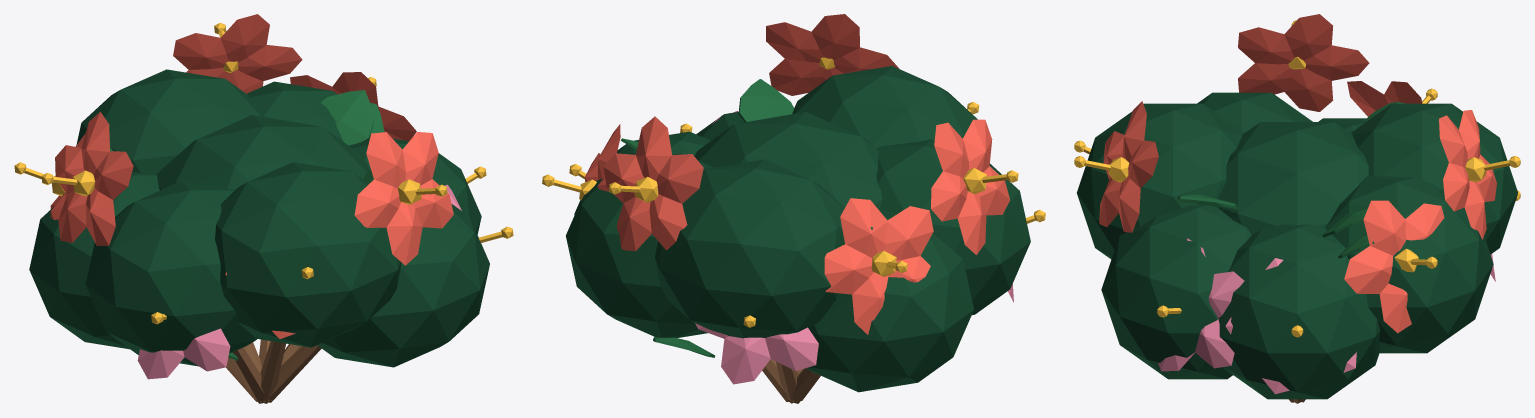
The model's file is bush-hibiscus.glb.
The picture shows the model from 3 angles, left to right: view 1: azimuth 30°, elevation 25°; view 2: azimuth 150°, elevation 25°; view 3: azimuth 270°, elevation 25°; orthographic projection. The views are drawn at different scales.
Parts seen in each view (by area): view 1: Dark green shrub core.005, Dark green shrub core.004, Dark green shrub core.006, Dark green shrub core.002, Hibiscus shrub center, Dark green shrub core.003, Dark green shrub core.001, Glossy hibiscus leaf.016, Dark green shrub core, Large hibiscus flower petal 1.008, Large hibiscus flower petal 5.008, Large hibiscus flower petal 4.002 (+20 smaller); view 2: Dark green shrub core.002, Dark green shrub core.003, Dark green shrub core.001, Hibiscus shrub center, Dark green shrub core.004, Dark green shrub core.005, Large hibiscus flower petal 5.004, Large hibiscus flower petal 4.004, Large hibiscus flower petal 2.003, Large hibiscus flower petal 1.004, Large hibiscus flower petal 4.002, Large hibiscus flower petal 5.008 (+25 smaller); view 3: Dark green shrub core, Dark green shrub core.006, Dark green shrub core.001, Hibiscus shrub center, Dark green shrub core.005, Dark green shrub core.002, Dark green shrub core.004, Large hibiscus flower petal 5.001, Large hibiscus flower petal 1.001, Large hibiscus flower petal 5.005, Large hibiscus flower petal 4.005, Large hibiscus flower petal 1.005 (+22 smaller).
Boxes of the visible parts, bbox=[...] form: Dark green shrub core.005: bbox=[215, 162, 401, 347]; Dark green shrub core.004: bbox=[85, 181, 257, 366]; Dark green shrub core.006: bbox=[317, 204, 489, 367]; Dark green shrub core.002: bbox=[76, 69, 260, 174]; Hibiscus shrub center: bbox=[157, 115, 369, 190]; Dark green shrub core.003: bbox=[29, 172, 159, 349]; Dark green shrub core.001: bbox=[246, 81, 343, 141]; Glossy hibiscus leaf.016: bbox=[321, 90, 373, 145]; Dark green shrub core: bbox=[349, 135, 481, 234]; Large hibiscus flower petal 1.008: bbox=[354, 179, 400, 227]; Large hibiscus flower petal 5.008: bbox=[366, 132, 405, 188]; Large hibiscus flower petal 4.002: bbox=[173, 33, 228, 69]; Dark green shrub core.002: bbox=[655, 159, 844, 338]; Dark green shrub core.003: bbox=[806, 208, 973, 392]; Dark green shrub core.001: bbox=[566, 153, 713, 337]; Hibiscus shrub center: bbox=[694, 112, 881, 208]; Dark green shrub core.004: bbox=[876, 139, 1030, 315]; Dark green shrub core.005: bbox=[792, 66, 977, 148]; Large hibiscus flower petal 5.004: bbox=[840, 198, 887, 258]; Large hibiscus flower petal 4.004: bbox=[884, 206, 933, 260]; Large hibiscus flower petal 2.003: bbox=[721, 336, 770, 384]; Large hibiscus flower petal 1.004: bbox=[824, 244, 873, 294]; Large hibiscus flower petal 4.002: bbox=[656, 154, 703, 203]; Large hibiscus flower petal 5.008: bbox=[811, 14, 859, 59]; Dark green shrub core: bbox=[1218, 224, 1380, 399]; Dark green shrub core.006: bbox=[1101, 205, 1251, 379]; Dark green shrub core.001: bbox=[1325, 175, 1493, 353]; Hibiscus shrub center: bbox=[1217, 122, 1368, 234]; Dark green shrub core.005: bbox=[1077, 103, 1243, 259]; Dark green shrub core.002: bbox=[1351, 103, 1517, 254]; Dark green shrub core.004: bbox=[1197, 92, 1312, 132]; Large hibiscus flower petal 5.001: bbox=[1363, 200, 1405, 255]; Large hibiscus flower petal 1.001: bbox=[1344, 246, 1393, 293]; Large hibiscus flower petal 5.005: bbox=[1284, 14, 1332, 60]; Large hibiscus flower petal 4.005: bbox=[1238, 27, 1294, 64]; Large hibiscus flower petal 1.005: bbox=[1304, 45, 1369, 80].
Size of the model in its own units: 1.78 by 1.22 by 1.58.
